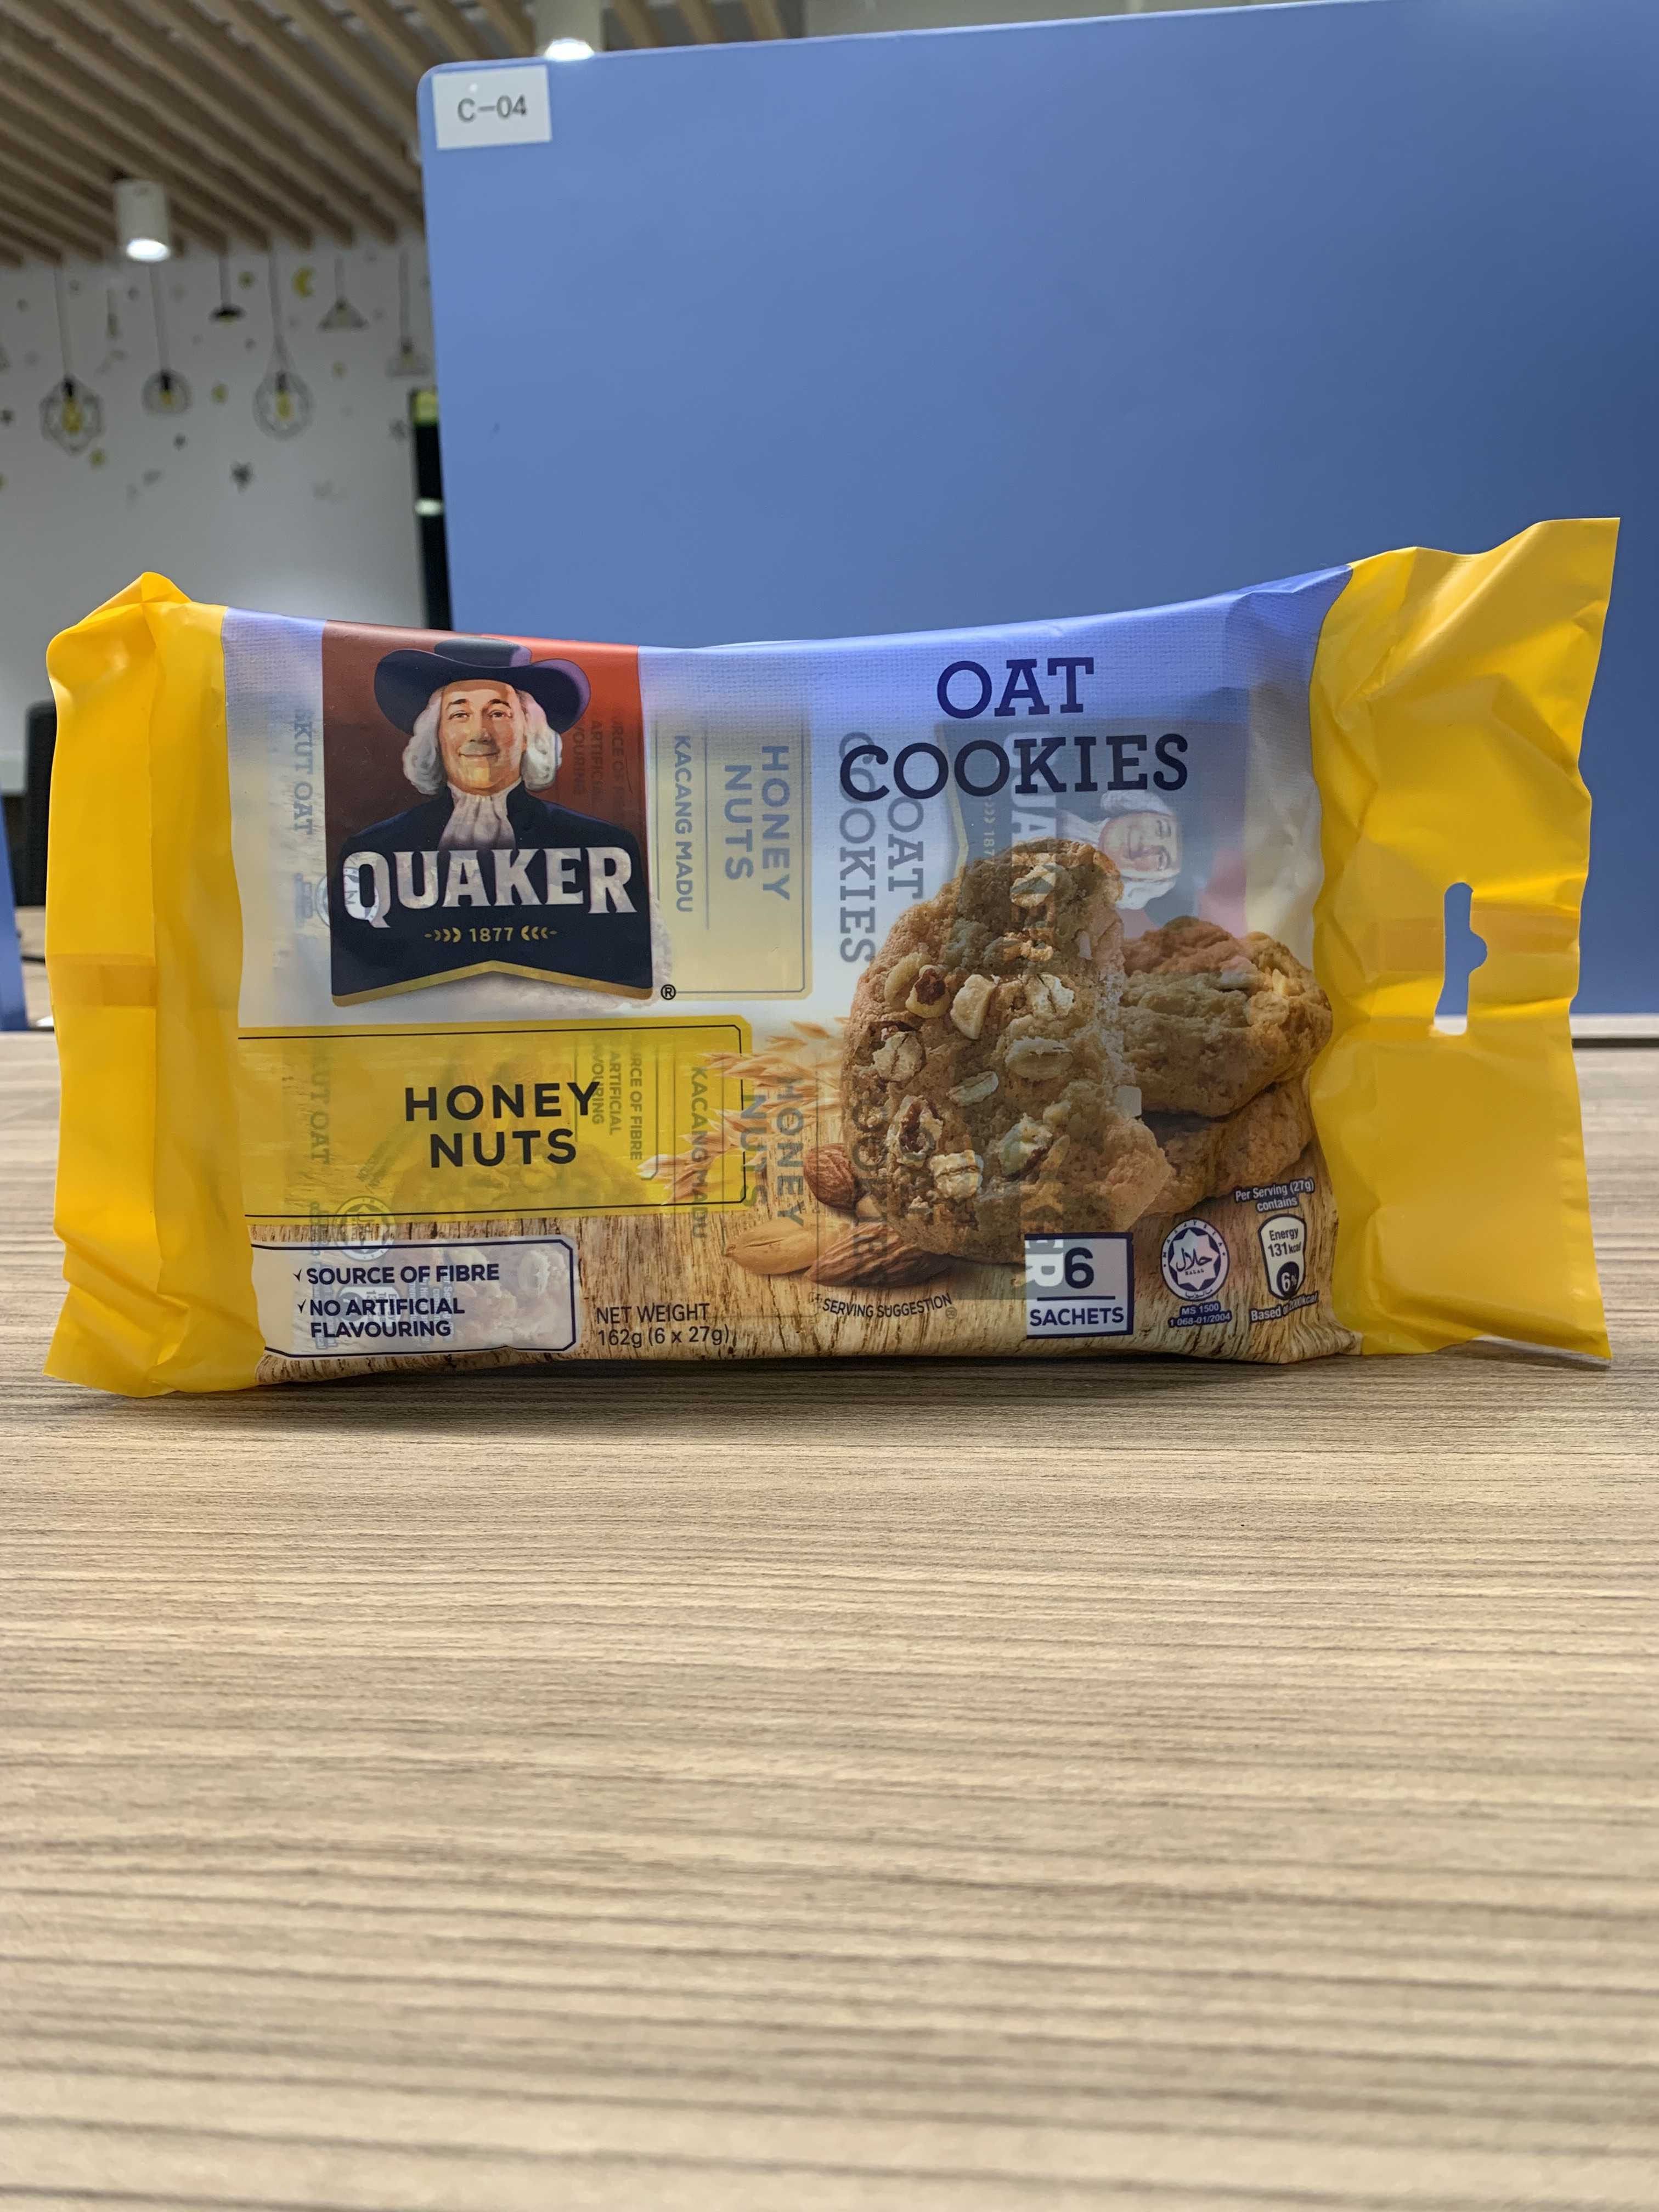cookies: (31, 498, 1635, 1404)
